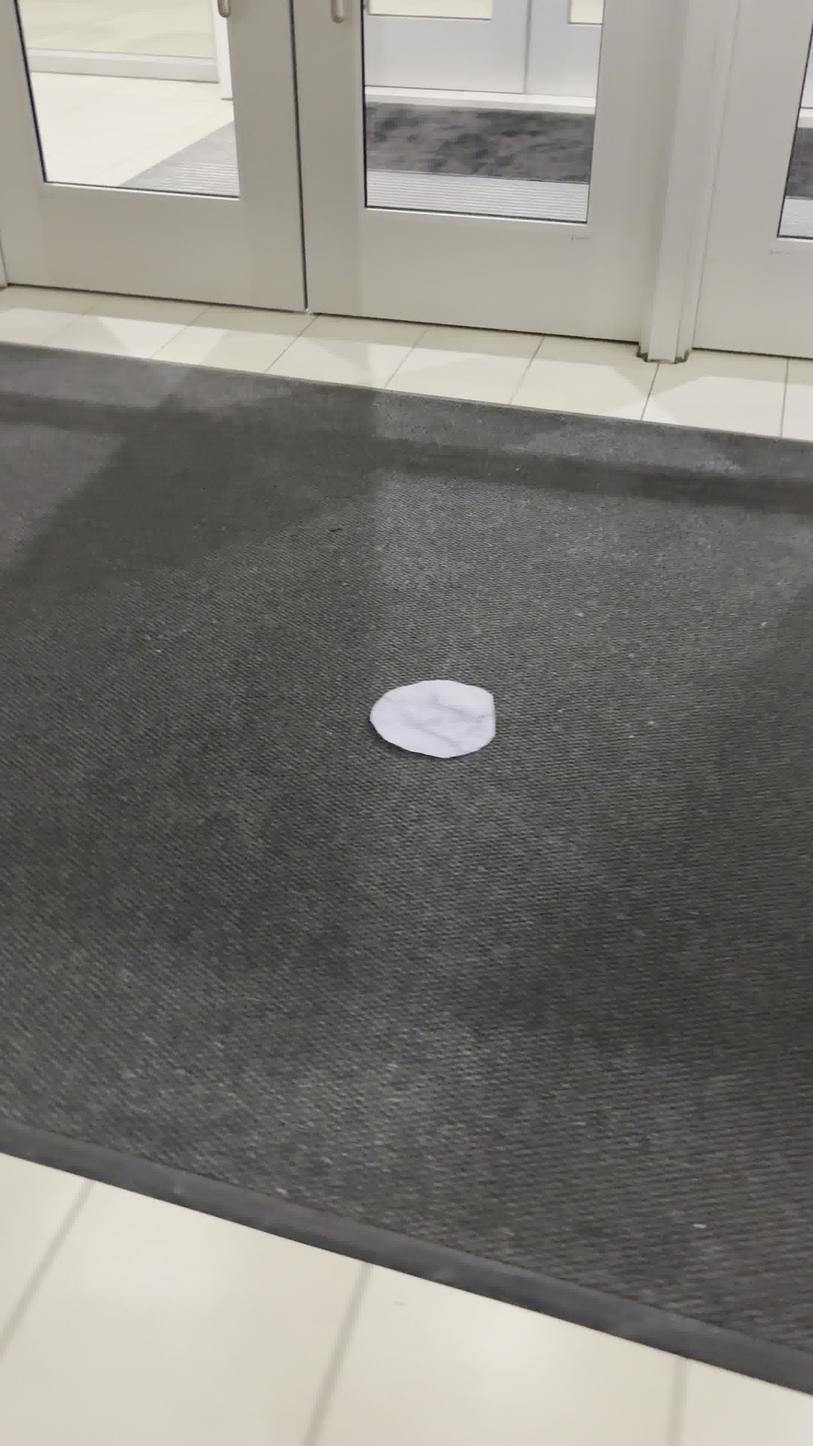Target: (369, 679, 496, 758)
